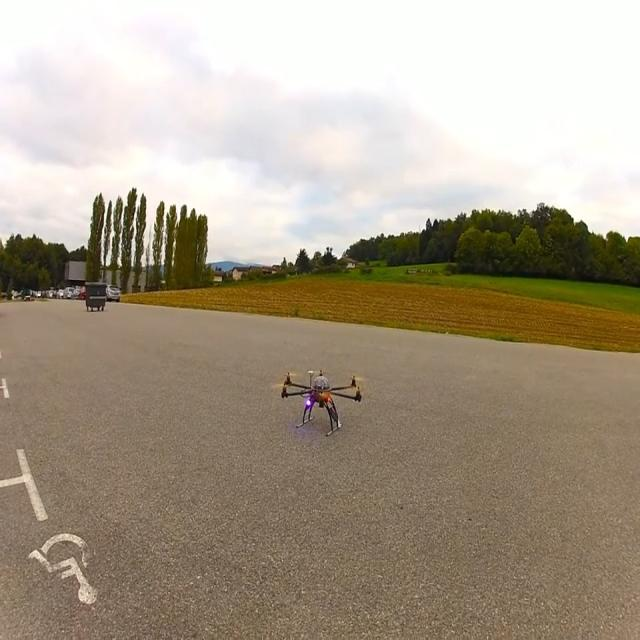drone: (280, 368, 362, 436)
